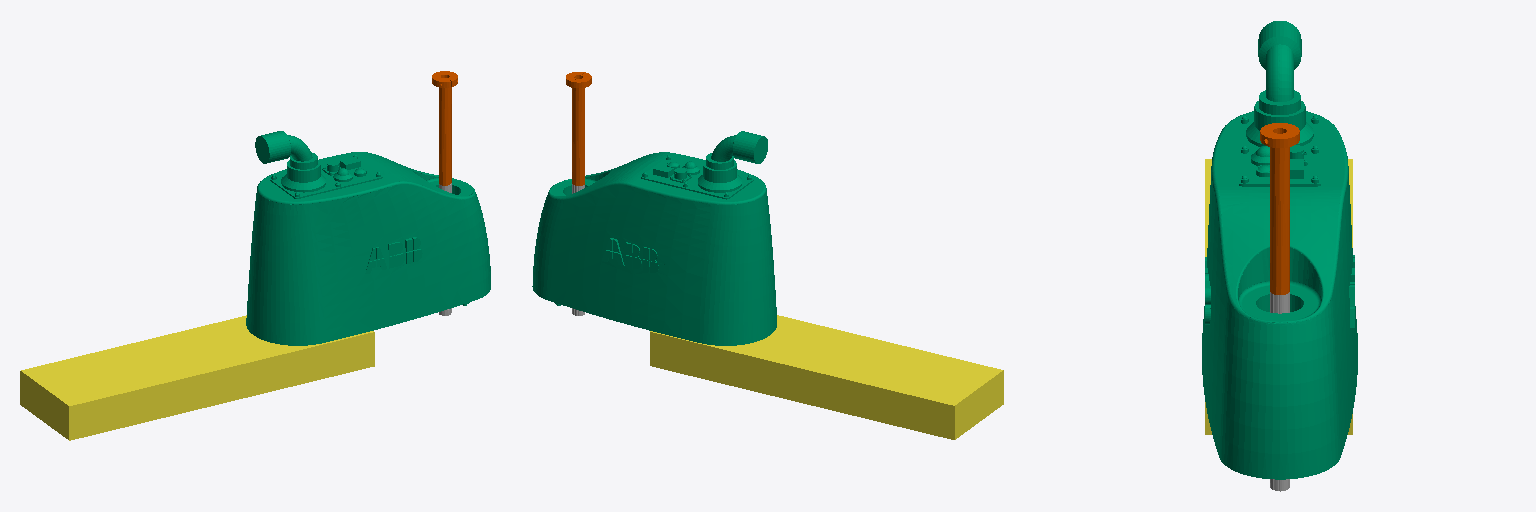
The robot description file, URDF, robot "irb910":
<?xml version="1.0" encoding="utf-8"?>
<robot name="irb910">
  <link name="base_link">
    <visual>
      <geometry>
        <mesh filename="package://abb_irb910sc_support/meshes/irb910sc_3_065/visual/base_link.stl" />
      </geometry>
    </visual>
    <collision>
      <geometry>
        <mesh filename="package://abb_irb910sc_support/meshes/irb910sc_3_065/visual/base_link.stl" />
      </geometry>
    </collision>
  </link>
  <link name="base" />
  <link name="link2">
    <visual>
      <geometry>
        <mesh filename="package://abb_irb910sc_support/meshes/irb910sc_3_065/visual/link2.stl" />
      </geometry>
    </visual>
    <collision>
      <geometry>
        <mesh filename="package://abb_irb910sc_support/meshes/irb910sc_3_065/visual/link2.stl" />
      </geometry>
    </collision>
  </link>
  <link name="link1">
    <visual>
      <geometry>
        <mesh filename="package://abb_irb910sc_support/meshes/irb910sc_3_065/visual/link1.stl" />
      </geometry>
    </visual>
    <collision>
      <geometry>
        <mesh filename="package://abb_irb910sc_support/meshes/irb910sc_3_065/visual/link1.stl" />
      </geometry>
    </collision>
  </link>
  <link name="flange" />
  <link name="link3">
    <visual>
      <geometry>
        <mesh filename="package://abb_irb910sc_support/meshes/irb910sc_3_065/visual/link3.stl" />
      </geometry>
    </visual>
    <collision>
      <geometry>
        <mesh filename="package://abb_irb910sc_support/meshes/irb910sc_3_065/visual/link3.stl" />
      </geometry>
    </collision>
  </link>
  <link name="tool0" />
  <link name="link4">
    <visual>
      <geometry>
        <mesh filename="package://abb_irb910sc_support/meshes/irb910sc_3_065/visual/link4.stl" />
      </geometry>
    </visual>
    <collision>
      <geometry>
        <mesh filename="package://abb_irb910sc_support/meshes/irb910sc_3_065/visual/link4.stl" />
      </geometry>
    </collision>
  </link>
  <joint name="base_link-base" type="fixed">
    <parent link="base_link" />
    <child link="base" />
    <origin rpy="0.0 -0.0 0.0" xyz="0.0 0.0 0.0" />
  </joint>
  <joint name="joint1" type="revolute">
    <parent link="base_link" />
    <child link="link1" />
    <axis xyz="0.0 0.0 1.0" />
    <limit effort="0.0" lower="-2.44346" upper="2.44346" velocity="0.0" />
    <origin rpy="0.0 -0.0 0.0" xyz="0.0 0.0 0.1962" />
  </joint>
  <joint name="joint2" type="revolute">
    <parent link="link1" />
    <child link="link2" />
    <axis xyz="0.0 0.0 1.0" />
    <limit effort="0.0" lower="-2.61799" upper="2.61799" velocity="0.0" />
    <origin rpy="0.0 -0.0 0.0" xyz="0.4 0.0 0.0615" />
  </joint>
  <joint name="joint3" type="prismatic">
    <parent link="link2" />
    <child link="link3" />
    <axis xyz="0.0 0.0 1.0" />
    <limit effort="0.0" lower="-0.18" upper="0.0" velocity="0.0" />
    <origin rpy="0.0 -0.0 0.0" xyz="0.25 0.0 0.18" />
  </joint>
  <joint name="joint4" type="revolute">
    <parent link="link3" />
    <child link="link4" />
    <axis xyz="0.0 0.0 1.0" />
    <limit effort="0.0" lower="-6.98132" upper="6.98132" velocity="0.0" />
    <origin rpy="0.0 -0.0 0.0" xyz="0.0 0.0 -0.2202" />
  </joint>
  <joint name="link_4-flange" type="fixed">
    <parent link="link4" />
    <child link="flange" />
    <origin rpy="0.0 -0.0 0.0" xyz="0.0 0.0 0.0" />
  </joint>
  <joint name="flange-tool0" type="fixed">
    <parent link="flange" />
    <child link="tool0" />
    <origin rpy="0.0 -0.0 0.0" xyz="0.0 0.0 0.0" />
  </joint>
</robot>

--- Facts derived from the render (not from the file) ---
Views: 3 orthographic renders of the robot side by side, from view 1: azimuth 30°, elevation 25°; view 2: azimuth 150°, elevation 25°; view 3: azimuth 270°, elevation 25°.
Robot: irb910 — 8 links, 7 joints (3 revolute, 1 prismatic, 3 fixed); root link base_link; default pose: all joints at 0.
Links seen in each view (by area): view 1: link2, link1, link3; view 2: link2, link1, link3; view 3: link2, link3, link1, link4.
Link boxes in pixels (<box>): link2: <box>246,131,490,345</box>; link1: <box>20,315,374,440</box>; link3: <box>432,71,457,185</box>; link2: <box>532,131,776,345</box>; link1: <box>650,315,1003,439</box>; link3: <box>566,72,591,185</box>; link2: <box>1202,21,1357,479</box>; link3: <box>1260,123,1299,294</box>; link1: <box>1205,159,1352,434</box>; link4: <box>1270,292,1289,491</box>.
Bounding box of the posed robot: 0.7807 × 0.159 × 0.42 m (x, y, z).
4 mesh visuals loaded from 5 distinct referenced files (4 binary STL); not drawn: 1 (reference not matched to a file when rendering).